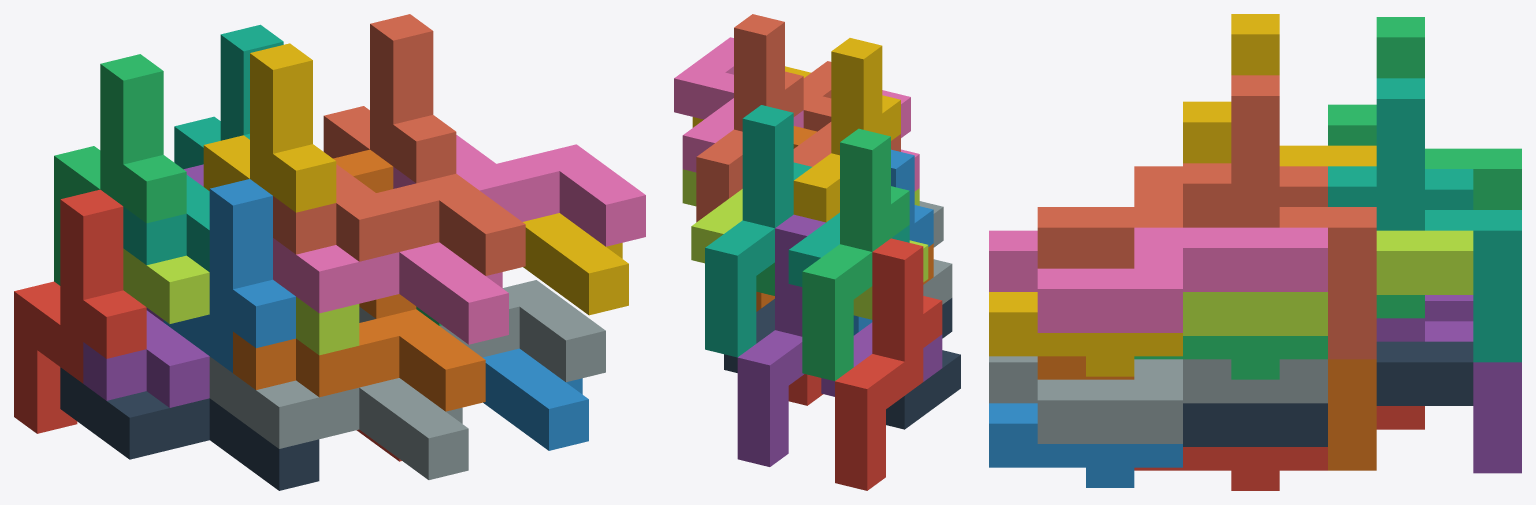
The model's file is tiling.obj.
3 views of the same model, side by side, from view 1: azimuth 30°, elevation 25°; view 2: azimuth 150°, elevation 25°; view 3: azimuth 270°, elevation 25° (orthographic). The views are drawn at different scales.
Parts seen in each view (by area): view 1: copy_1_domain_1, copy_3_domain_4, copy_2_domain_2, copy_3_domain_2, copy_2_domain_4, copy_1_domain_3, copy_1_domain_8, copy_1_domain_4, copy_1_domain_2, copy_2_domain_1, copy_3_domain_8, copy_3_domain_6 (+7 smaller); view 2: copy_1_domain_1, copy_1_domain_3, copy_1_domain_7, copy_1_domain_5, copy_1_domain_8, copy_1_domain_4, copy_3_domain_8, copy_2_domain_1, copy_3_domain_4, copy_3_domain_7, copy_1_domain_2, copy_3_domain_3 (+8 smaller); view 3: copy_3_domain_8, copy_1_domain_8, copy_1_domain_7, copy_3_domain_6, copy_3_domain_5, copy_3_domain_7, copy_3_domain_4, copy_1_domain_3, copy_1_domain_4, copy_1_domain_5, copy_2_domain_6, copy_2_domain_8 (+8 smaller).
Boxes of the visible parts, box(x1,y1,x2,y2) form: copy_1_domain_1: box(14, 189, 146, 433); copy_3_domain_4: box(273, 164, 525, 275); copy_2_domain_2: box(209, 356, 468, 479); copy_3_domain_2: box(233, 309, 485, 411); copy_2_domain_4: box(273, 238, 508, 344); copy_1_domain_3: box(54, 54, 186, 285); copy_1_domain_8: box(323, 14, 456, 183); copy_1_domain_4: box(203, 43, 336, 212); copy_1_domain_2: box(163, 179, 295, 372); copy_2_domain_1: box(60, 367, 319, 490); copy_3_domain_8: box(393, 135, 645, 246); copy_3_domain_6: box(359, 280, 605, 382); copy_1_domain_1: box(835, 238, 942, 490); copy_1_domain_3: box(802, 128, 909, 381); copy_1_domain_7: box(705, 105, 811, 357); copy_1_domain_5: box(737, 214, 825, 466); copy_1_domain_8: box(696, 14, 803, 222); copy_1_domain_4: box(793, 38, 900, 222); copy_3_domain_8: box(674, 37, 803, 172); copy_2_domain_1: box(886, 298, 960, 429); copy_3_domain_4: box(793, 61, 900, 166); copy_3_domain_7: box(682, 169, 742, 263); copy_1_domain_2: box(853, 149, 933, 335); copy_3_domain_3: box(788, 212, 909, 286); copy_3_domain_8: box(1037, 227, 1327, 332); copy_1_domain_8: box(1183, 75, 1376, 359); copy_1_domain_7: box(1328, 78, 1521, 362); copy_3_domain_6: box(1037, 359, 1327, 443); copy_3_domain_5: box(1183, 341, 1473, 446); copy_3_domain_7: box(1183, 230, 1473, 335); copy_3_domain_4: box(1037, 166, 1327, 268); copy_1_domain_3: box(1328, 17, 1521, 209); copy_1_domain_4: box(1183, 14, 1376, 166); copy_1_domain_5: box(1376, 318, 1521, 473); copy_2_domain_6: box(989, 403, 1182, 487); copy_2_domain_8: box(989, 292, 1182, 376).
Bounding box in the file's own units: 10 × 10 × 11.
